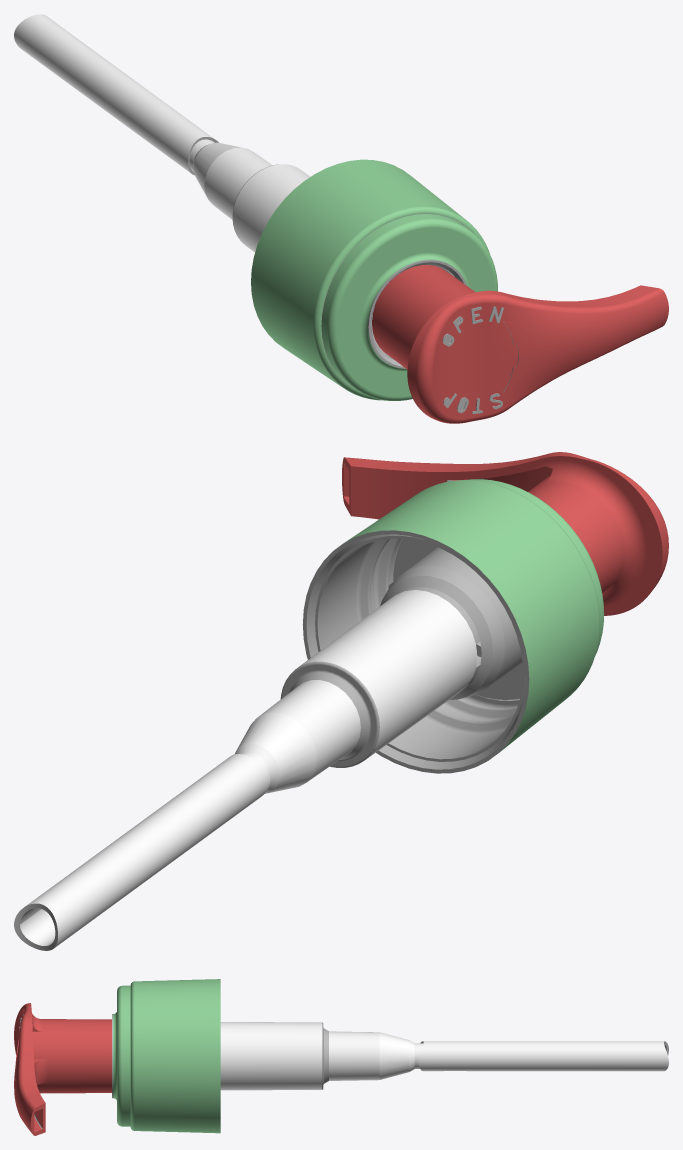
Rendered from emtbx5147b.glb.
3 renders of one model, top to bottom at view 1: azimuth 30°, elevation 25°; view 2: azimuth 150°, elevation 25°; view 3: azimuth 270°, elevation 25°, orthographic. The views are drawn at different scales.
Visible parts, largest first — view 1: EM095082002N_1_AF0.stp-1, EM035057_1_AF0.stp-1, EM085006048_1.stp-1, EM015017280_1_AF0.stp-1; view 2: EM095082002N_1_AF0.stp-1, EM015017280_1_AF0.stp-1, EM035057_1_AF0.stp-1, EM085006048_1.stp-1, EM06702413249165_1_AF0.stp-1; view 3: EM095082002N_1_AF0.stp-1, EM015017280_1_AF0.stp-1, EM035057_1_AF0.stp-1, EM085006048_1.stp-1.
Boxes of the visible parts, <box> form: EM095082002N_1_AF0.stp-1: <box>251,159,497,400</box>; EM035057_1_AF0.stp-1: <box>372,265,668,423</box>; EM085006048_1.stp-1: <box>14,14,218,175</box>; EM015017280_1_AF0.stp-1: <box>189,139,452,358</box>; EM095082002N_1_AF0.stp-1: <box>302,479,604,773</box>; EM015017280_1_AF0.stp-1: <box>235,547,522,793</box>; EM035057_1_AF0.stp-1: <box>342,452,668,615</box>; EM085006048_1.stp-1: <box>14,754,270,950</box>; EM06702413249165_1_AF0.stp-1: <box>393,538,522,699</box>; EM095082002N_1_AF0.stp-1: <box>112,979,220,1133</box>; EM015017280_1_AF0.stp-1: <box>220,1022,423,1090</box>; EM035057_1_AF0.stp-1: <box>14,1003,111,1135</box>; EM085006048_1.stp-1: <box>418,1041,668,1071</box>.
Size of the model in its own units: 0.0474 by 0.0307 by 0.1308.
